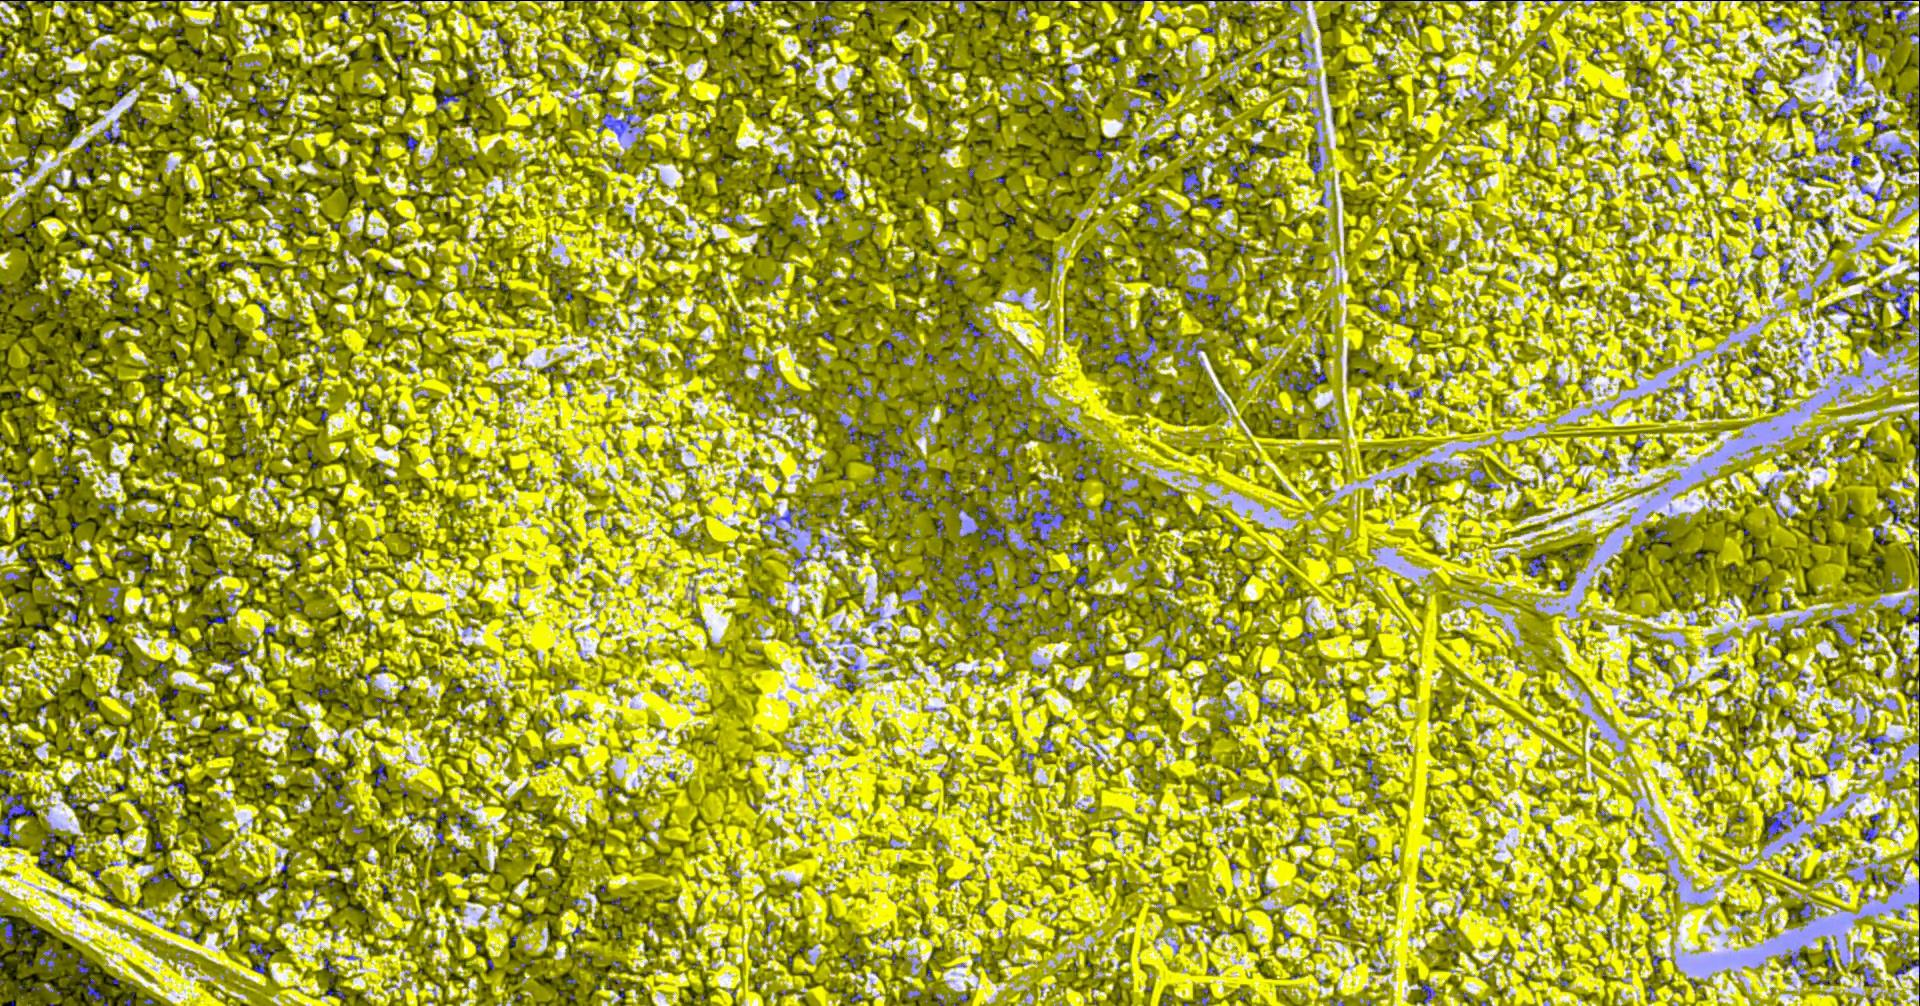ant: (0, 791, 33, 846), (36, 843, 75, 883), (1030, 499, 1064, 533), (596, 104, 632, 136), (858, 428, 888, 464), (966, 523, 1008, 547), (1114, 348, 1148, 373), (1291, 365, 1326, 390), (1037, 422, 1076, 442), (251, 942, 276, 973), (1893, 286, 1912, 324), (1843, 48, 1855, 97), (1185, 291, 1219, 307), (80, 978, 103, 1002), (1763, 812, 1784, 837), (1893, 959, 1919, 978), (1182, 166, 1199, 196), (1895, 0, 1912, 27), (810, 14, 836, 32), (954, 387, 985, 401), (1884, 495, 1901, 522), (1859, 103, 1879, 124), (436, 90, 458, 109), (1365, 758, 1379, 789), (104, 126, 126, 145), (1862, 290, 1883, 309), (1528, 553, 1545, 575), (1228, 163, 1248, 182), (963, 319, 984, 337), (0, 915, 13, 944), (1865, 734, 1884, 753), (1818, 0, 1841, 15), (372, 763, 387, 786), (1823, 298, 1848, 312), (1309, 146, 1321, 175), (1073, 567, 1088, 588), (149, 870, 174, 883), (1420, 982, 1434, 1005), (1773, 100, 1789, 119), (974, 560, 993, 577), (898, 488, 918, 503), (879, 450, 903, 462), (1035, 253, 1051, 271), (1823, 941, 1832, 972), (38, 950, 56, 965), (1201, 196, 1222, 208), (1850, 23, 1867, 37), (1886, 151, 1900, 168), (1862, 826, 1876, 842), (405, 133, 417, 151), (830, 187, 844, 201), (1100, 499, 1112, 514), (76, 956, 88, 973), (974, 506, 987, 520)
